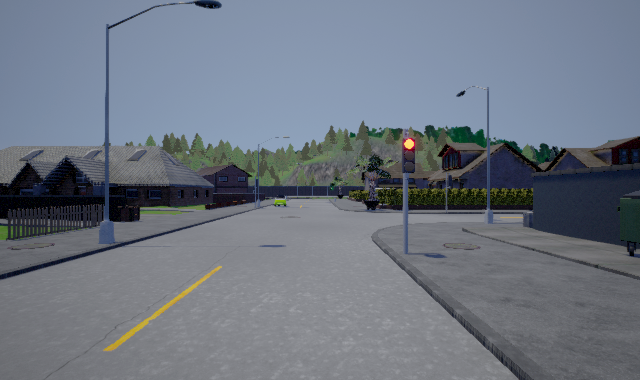traffic_light: (402, 132, 415, 180)
vehicle: (273, 195, 288, 206)
